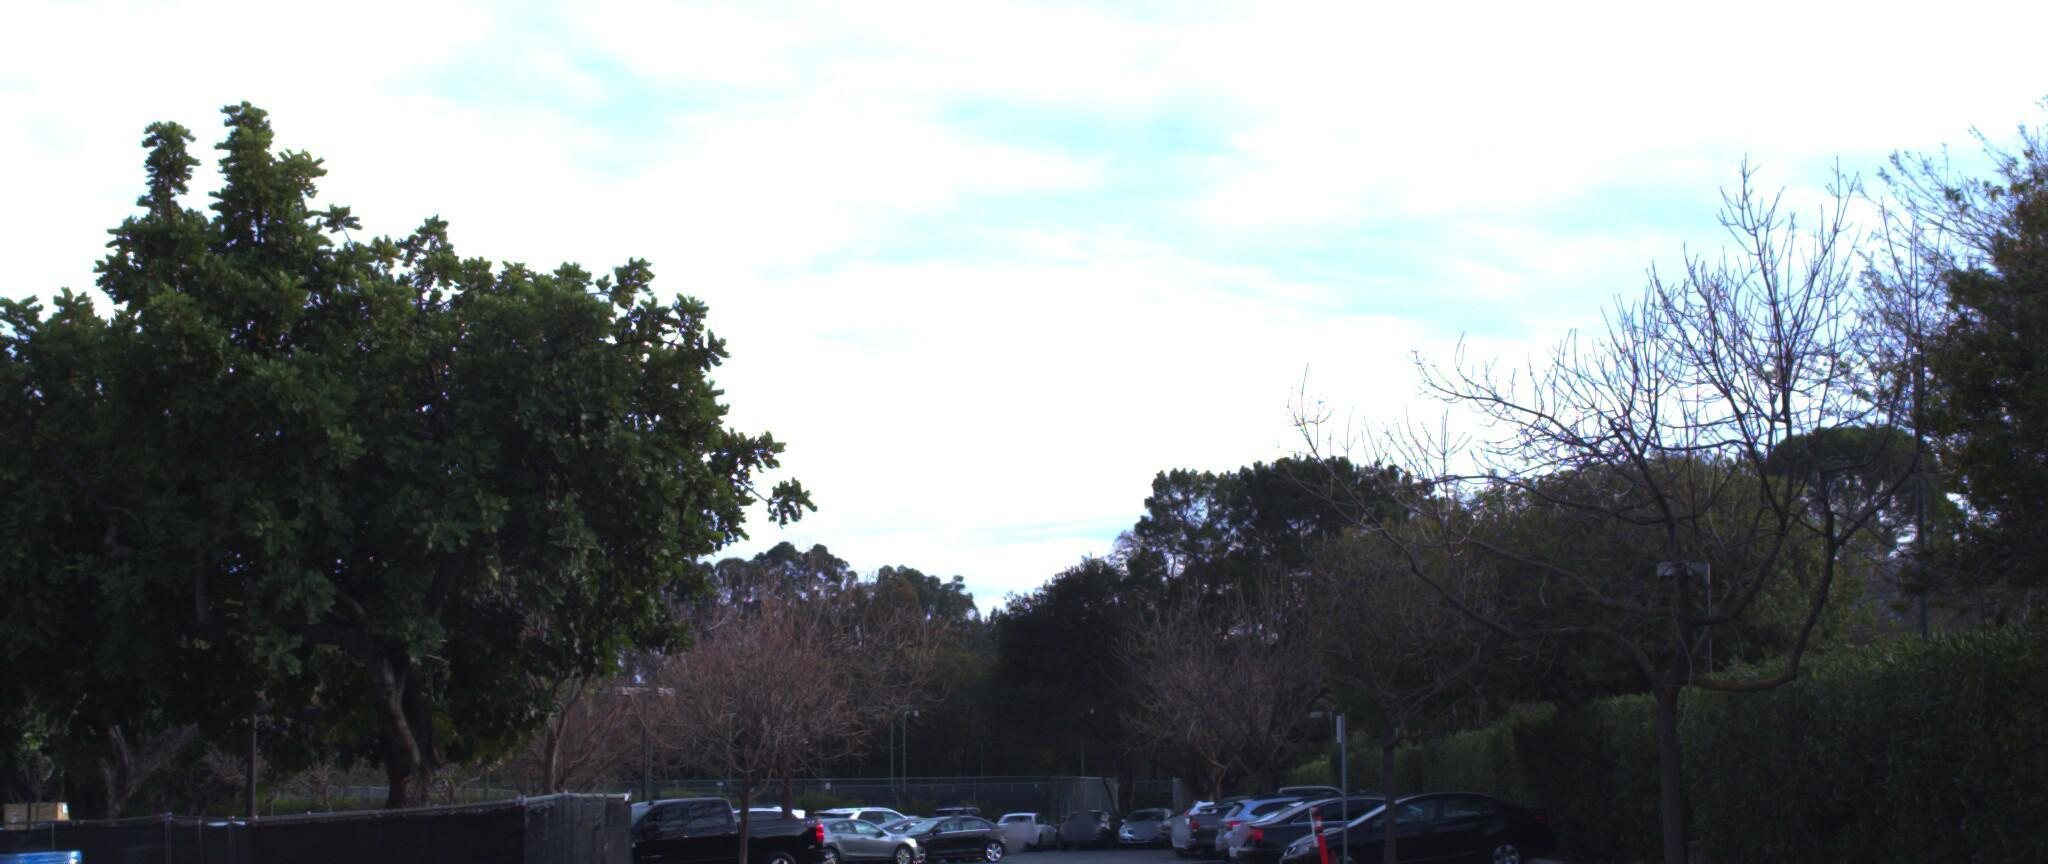car: (0, 741, 434, 864)
